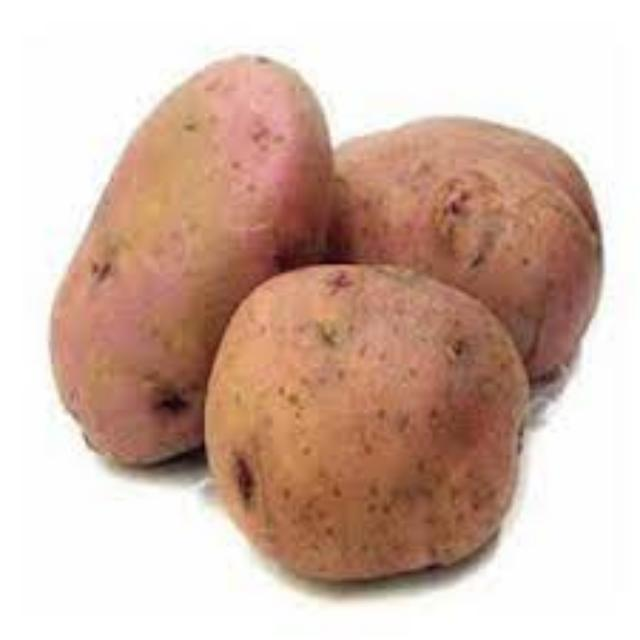Defected potato: (41, 50, 341, 472), (197, 264, 538, 592), (286, 108, 608, 398)
